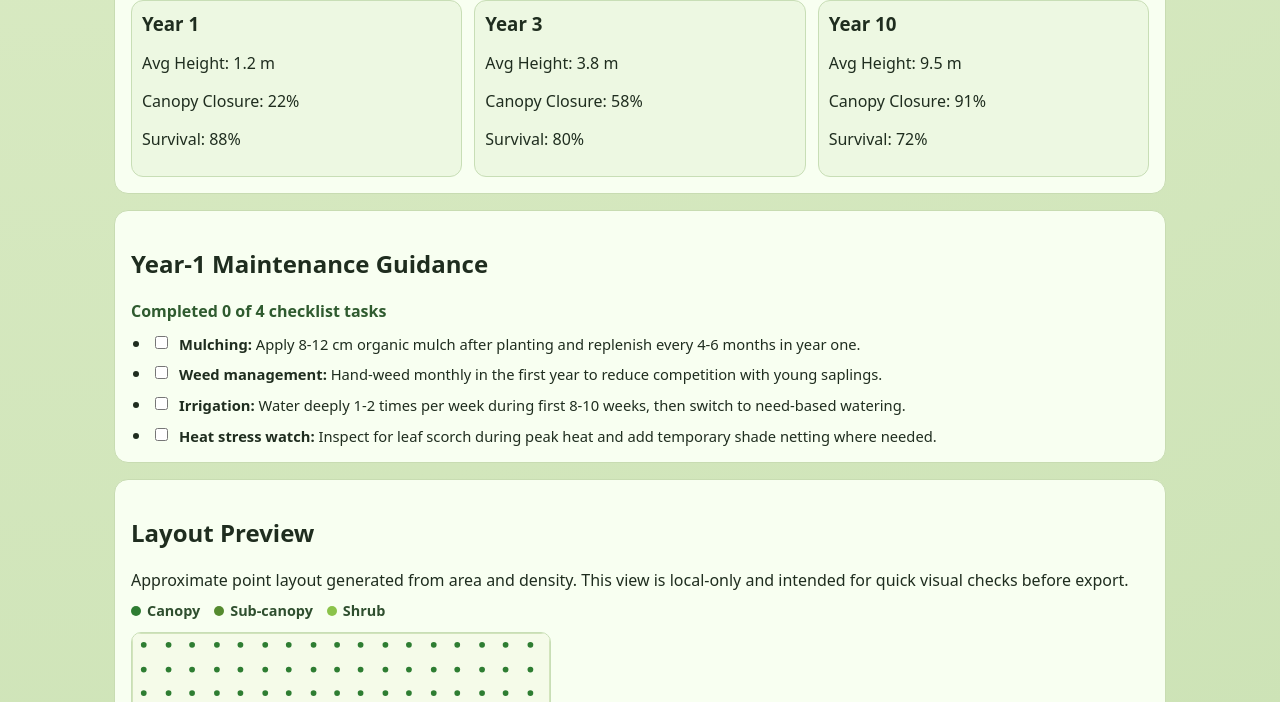
Test: App › tracks checklist completion progress
(page scrolled)
Check: the text "Completed 0 of 4 checklist tasks" is shown, box [131,300,386,322]
Click the 1st checkbox at (162, 342), box [155,336,168,349]
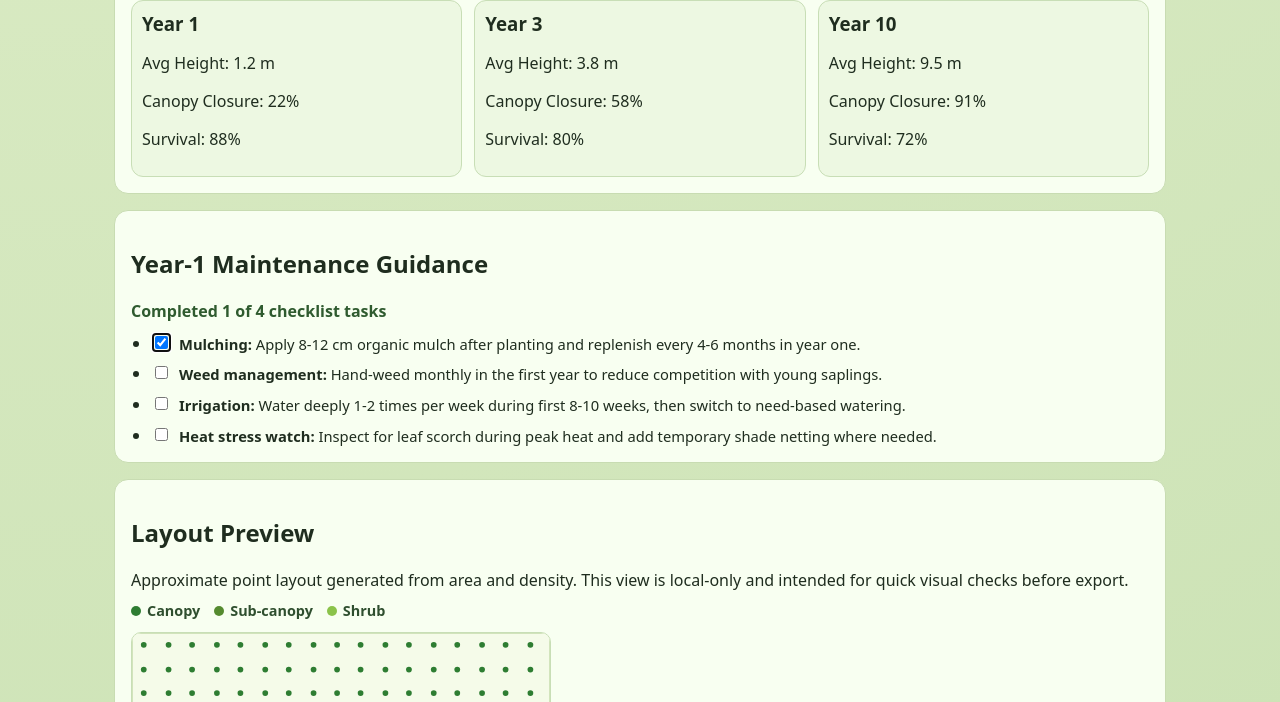
Check: the text "Completed 1 of 4 checklist tasks" is shown, box [131,300,386,322]
